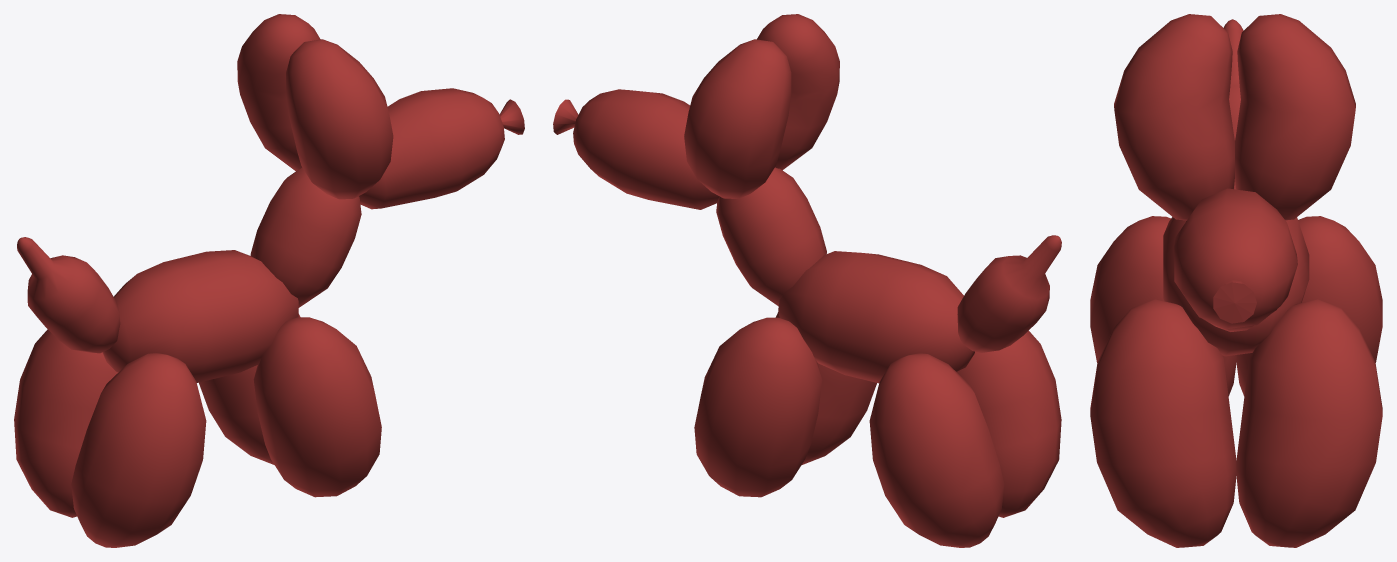
The model's file is BalloonAnimal.fbx.
3 views of the same model, side by side, from view 1: azimuth 30°, elevation 25°; view 2: azimuth 150°, elevation 25°; view 3: azimuth 270°, elevation 25° (orthographic). The views are drawn at different scales.
Visible parts, largest first — view 1: AnimalBalloons; view 2: AnimalBalloons; view 3: AnimalBalloons.
Boxes of the visible parts, left/top/right/bottom form: AnimalBalloons: left=14, top=14, right=524, bottom=547; AnimalBalloons: left=553, top=14, right=1061, bottom=547; AnimalBalloons: left=1090, top=14, right=1382, bottom=547.
Bounding box in the file's own units: 43.17 × 37.06 × 18.66.
1 material, 1 textured.
